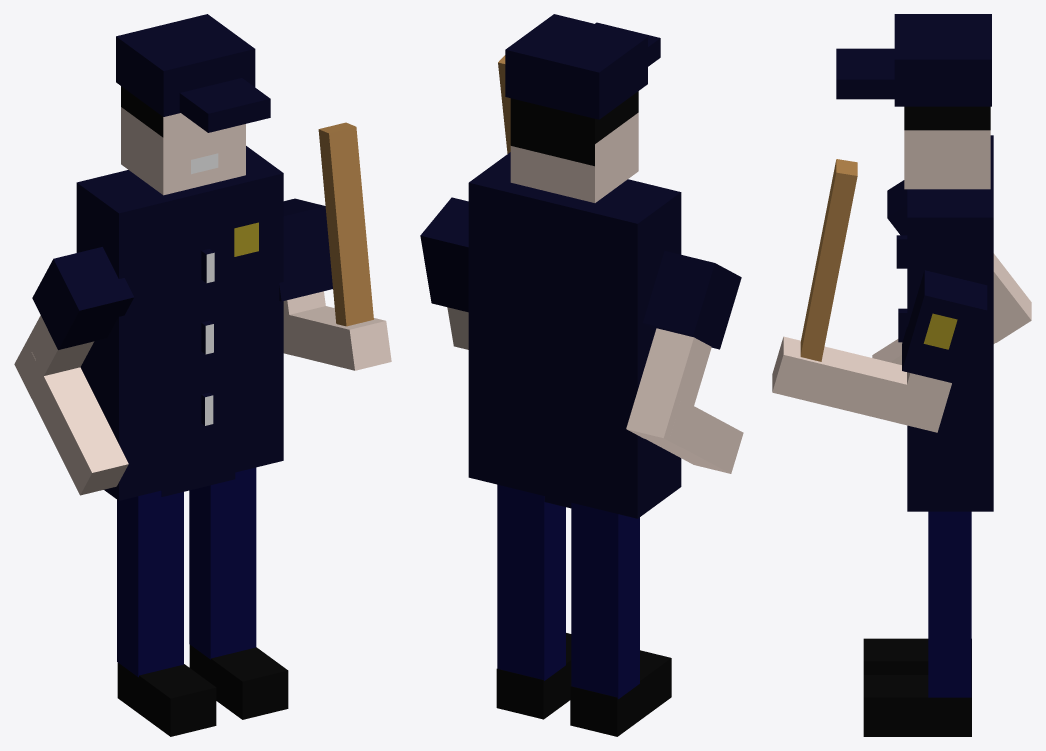
File: policerunner.fbx
3 views of the same model, side by side, from view 1: azimuth 30°, elevation 25°; view 2: azimuth 150°, elevation 25°; view 3: azimuth 270°, elevation 25° (orthographic). The views are drawn at different scales.
Visible parts, largest first — view 1: police; view 2: police; view 3: police.
Part boxes in pixels (x1,y1,x2,y2): police: (14,14,391,736); police: (420,14,743,736); police: (772,14,1031,736).
Bounding box in the file's own units: 1.44 × 3.41 × 1.2.
